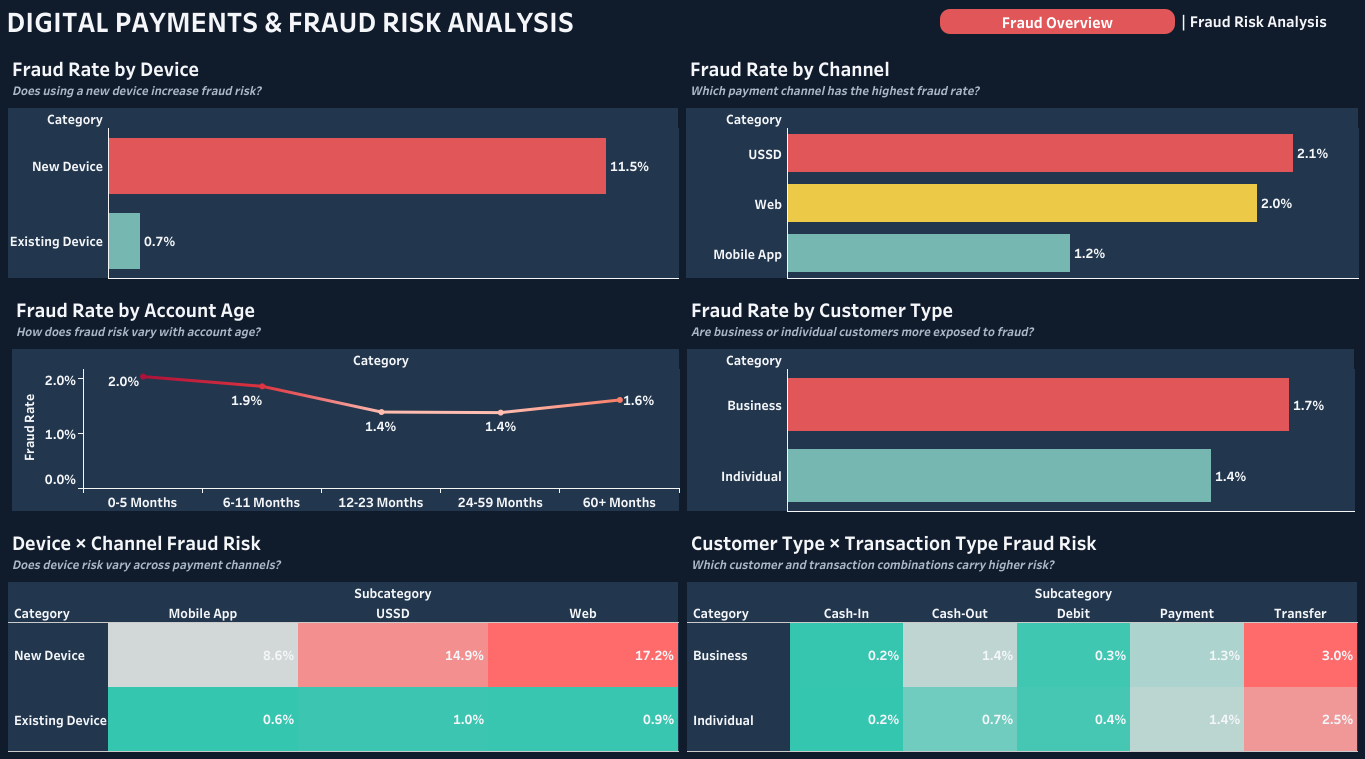

This screenshot's page, from the dashboard's own definition file:
{"tool":"tableau","page":{"name":"Fraud Risk Analysis","canvas":[1366,760],"ordinal":1},"visuals":[{"type":"title","box":[0,0,1366,41]},{"type":"text","box":[1174.8,7.6,181,25.6]},{"type":"dashboard-object","box":[940.3,8.6,234.5,25.6]},{"type":"worksheet","title":"Fraud Rate by Device","mark":"Automatic","rows":["category"],"cols":["fraud_rate"],"box":[4,45,678.5,237]},{"type":"worksheet","title":"Fraud Rate by Channel","mark":"Automatic","rows":["category"],"cols":["fraud_rate"],"box":[682.5,45,679.5,237]},{"type":"worksheet","title":"Fraud Rate by Account Age","mark":"Line","rows":["fraud_rate"],"cols":["category"],"box":[8,286,675,229]},{"type":"worksheet","title":"Fraud Rate by Customer Type","mark":"Bar","rows":["category"],"cols":["fraud_rate"],"box":[683,286,675,229]},{"type":"worksheet","title":"Device × Channel Fraud Risk","mark":"Square","rows":["category"],"cols":["subcategory"],"box":[4,519,679,237]},{"type":"worksheet","title":"Customer Type × Transaction Type Fraud Risk","mark":"Square","rows":["category"],"cols":["subcategory"],"box":[683,519,679,237]}]}

Visuals, with their boxes in screenshot pixels (x1, y1, x2, y2), scaled from the page's 1366x760 canvas onto the 1365x759 screenshot:
title: <region>0, 0, 1364, 41</region>
text: <region>1174, 8, 1355, 33</region>
dashboard-object: <region>940, 9, 1174, 34</region>
"Fraud Rate by Device" worksheet: <region>4, 45, 682, 282</region>
"Fraud Rate by Channel" worksheet: <region>682, 45, 1361, 282</region>
"Fraud Rate by Account Age" worksheet (Line marks): <region>8, 286, 682, 514</region>
"Fraud Rate by Customer Type" worksheet (Bar marks): <region>682, 286, 1357, 514</region>
"Device × Channel Fraud Risk" worksheet (Square marks): <region>4, 518, 682, 755</region>
"Customer Type × Transaction Type Fraud Risk" worksheet (Square marks): <region>682, 518, 1361, 755</region>
